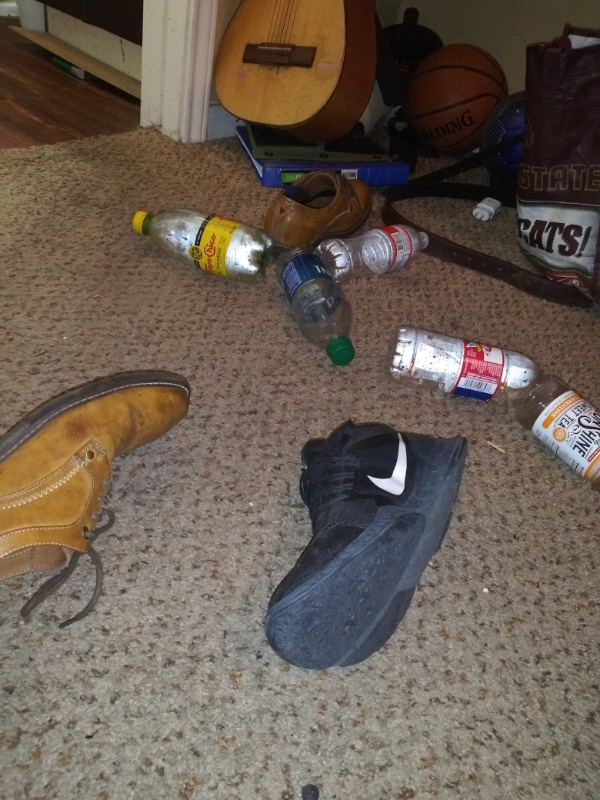bottle: (380, 322, 568, 409), (121, 203, 276, 292), (268, 241, 358, 371), (511, 374, 600, 492), (307, 220, 439, 287)
